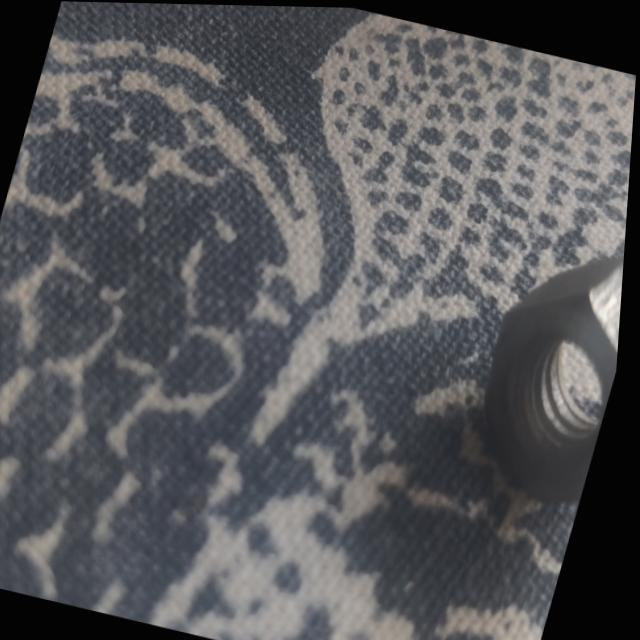disinfected nut: (489, 253, 627, 500)
